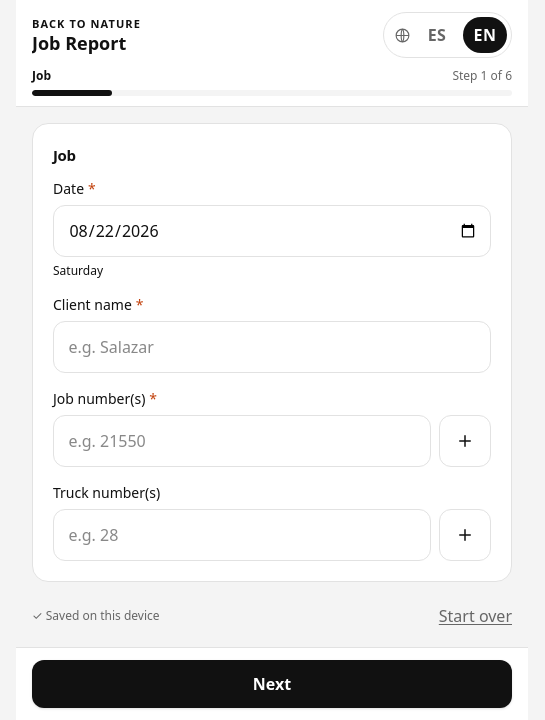
it: moving past the times step › lets an untouched times step through — every field is still optional
The image size is (545, 720).
Click the button "Next".
click(272, 684)  # box [32, 660, 512, 708]
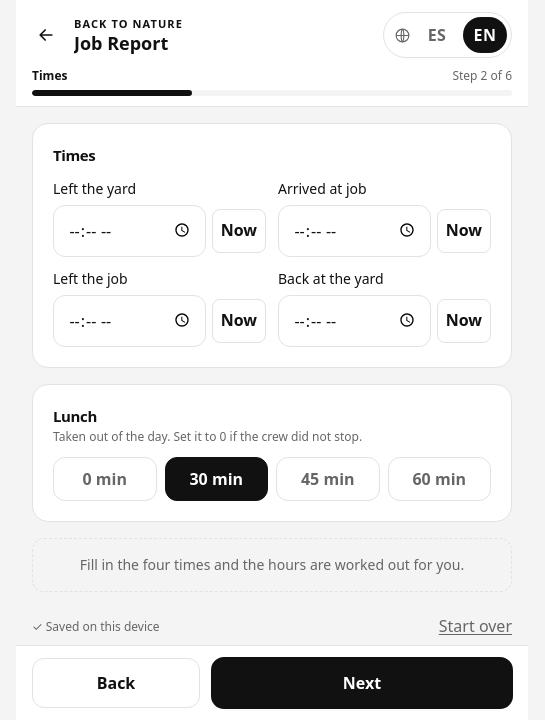
Expected: the button "Next" is enabled, [212, 658, 512, 708]
Now the time field labelled "Left the yard" is shown, box [53, 204, 206, 256]
